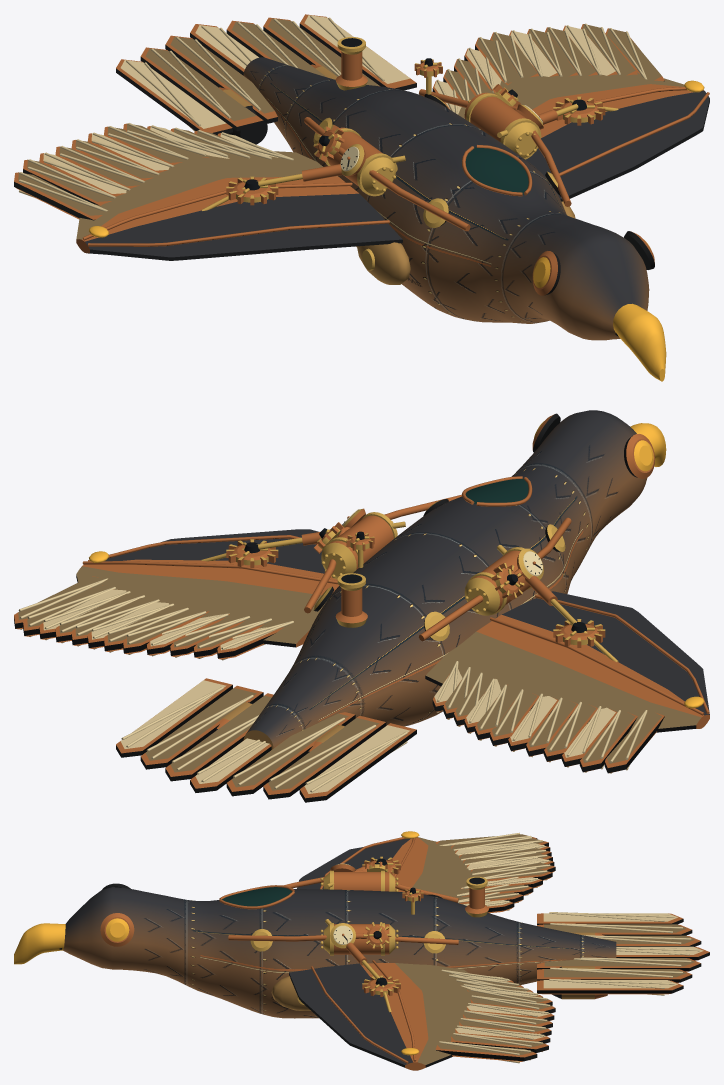
3 views of the same model, one above another, from view 1: azimuth 30°, elevation 25°; view 2: azimuth 150°, elevation 25°; view 3: azimuth 270°, elevation 25° (orthographic). The views are drawn at different scales.
Visible parts, largest first — view 1: oxpecker_hull; view 2: oxpecker_hull; view 3: oxpecker_hull.
Part boxes in pixels (x1,y1,x2,y2): oxpecker_hull: (14, 14, 709, 381); oxpecker_hull: (14, 410, 709, 802); oxpecker_hull: (14, 831, 709, 1070).
Size of the model in its own units: 12.31 by 3.45 by 16.
1 material, 1 textured.
